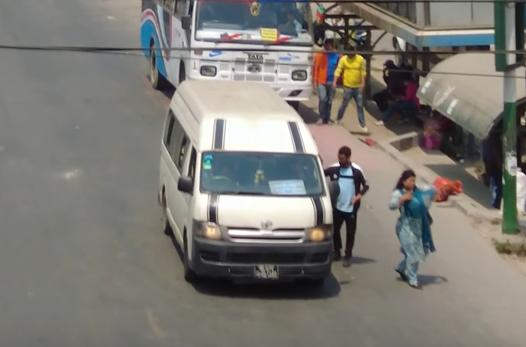bus: (135, 0, 320, 106)
micro_bus: (156, 75, 336, 294)
